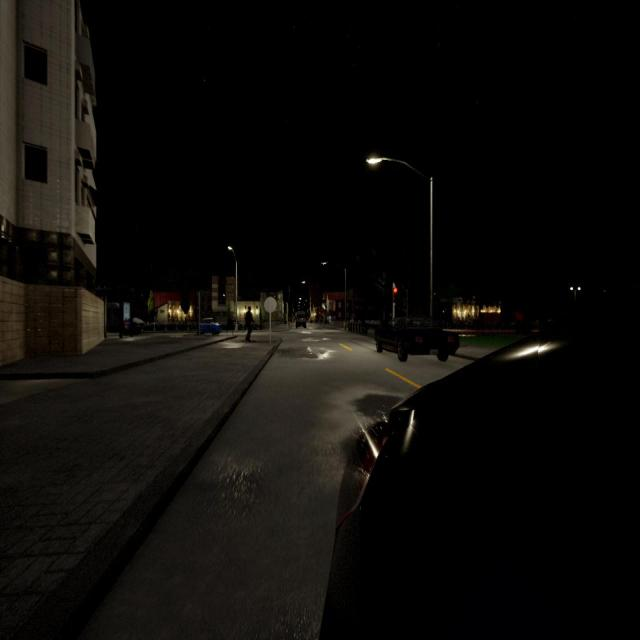Pedestrian: (244, 306, 255, 342)
Traffic_Signs: (264, 297, 277, 313)
Vehicle: (319, 301, 640, 639), (375, 311, 461, 364), (197, 318, 221, 336), (296, 311, 306, 329)
traffic_light: (392, 287, 398, 302)
